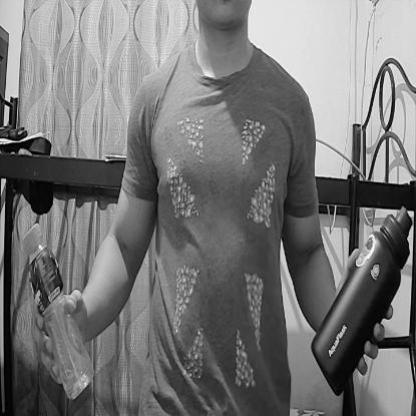Plastic Bottle: (21, 215, 101, 407)
